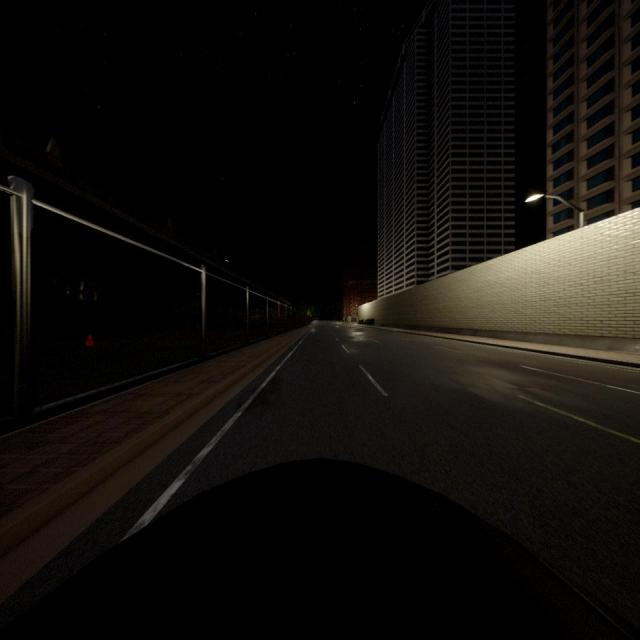Vehicle: (0, 458, 640, 640)
